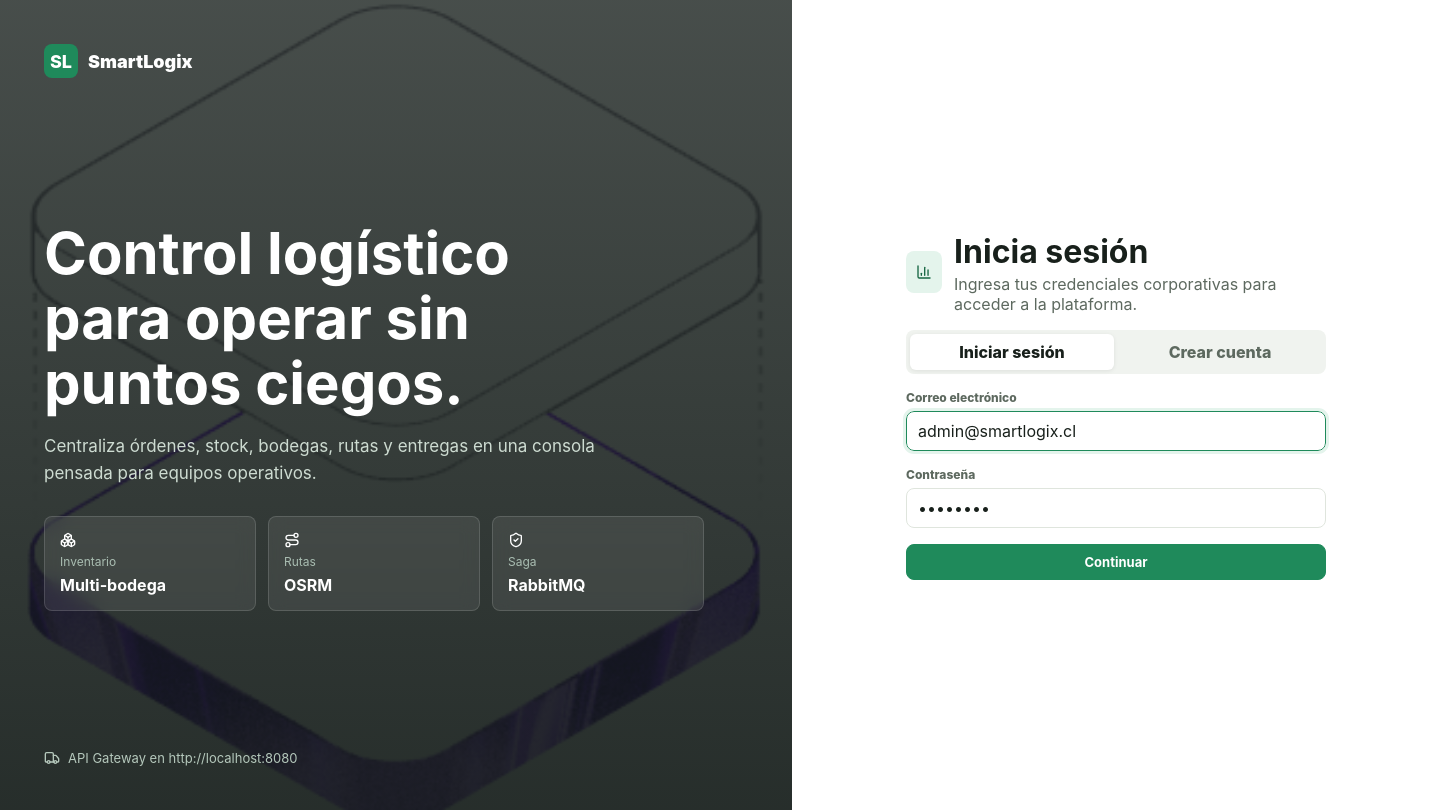
Test: Auth page › shows validation errors from the service
Replace the text in the field showing "admin@smartlogix.cl" with "bad-email" at {"x": 1116, "y": 431}, box top-left (906, 411), bottom-right (1326, 451)
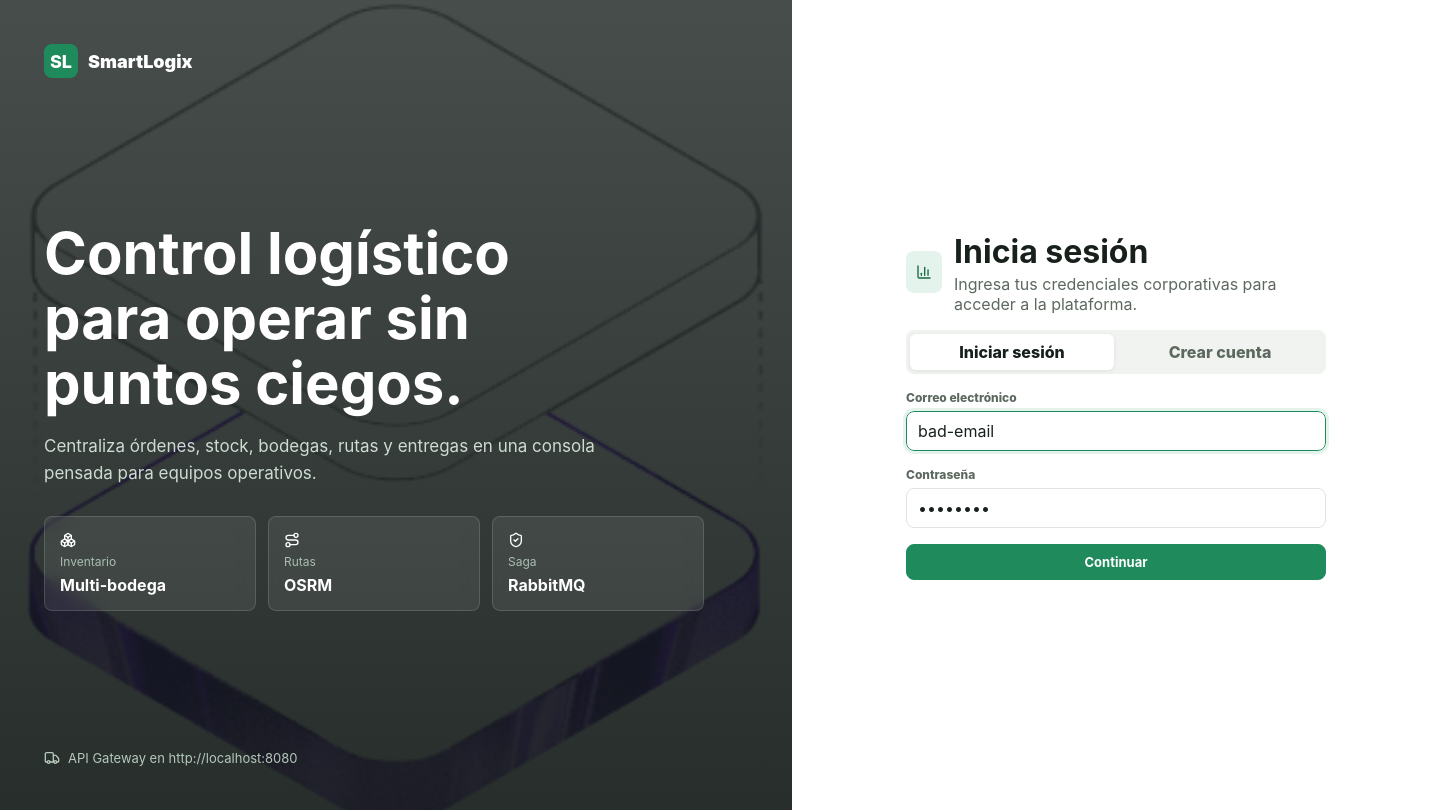
Click the button "Continuar" at {"x": 1116, "y": 562}, box top-left (906, 544), bottom-right (1326, 580)
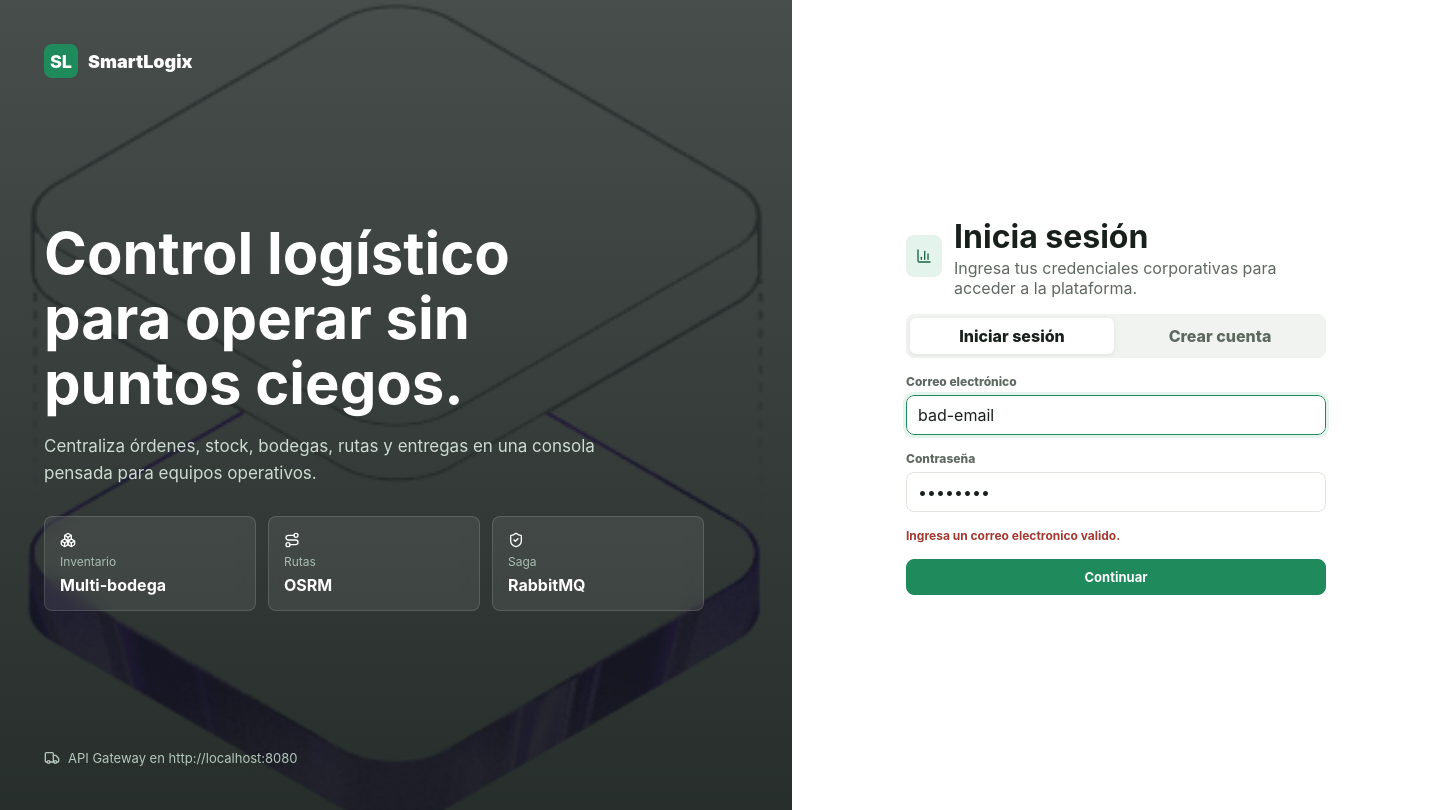
Expected: the text "Ingresa un correo electronico valido." is shown, top-left (906, 528), bottom-right (1120, 543)
